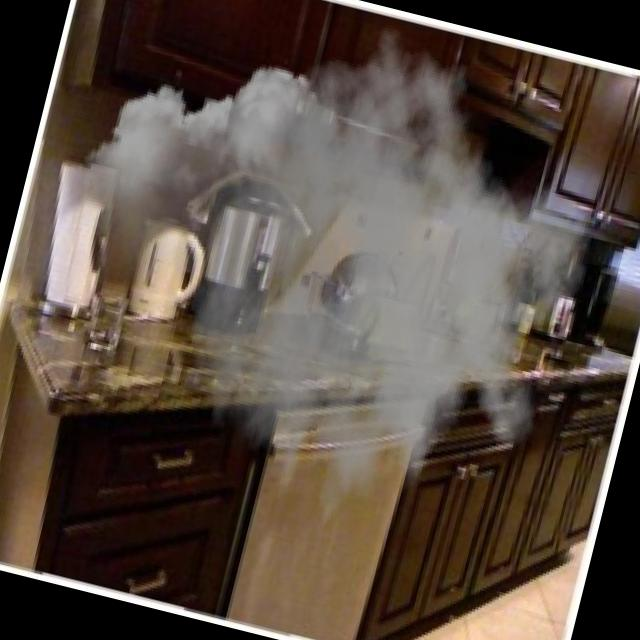Smoke: (0, 0, 635, 597)
